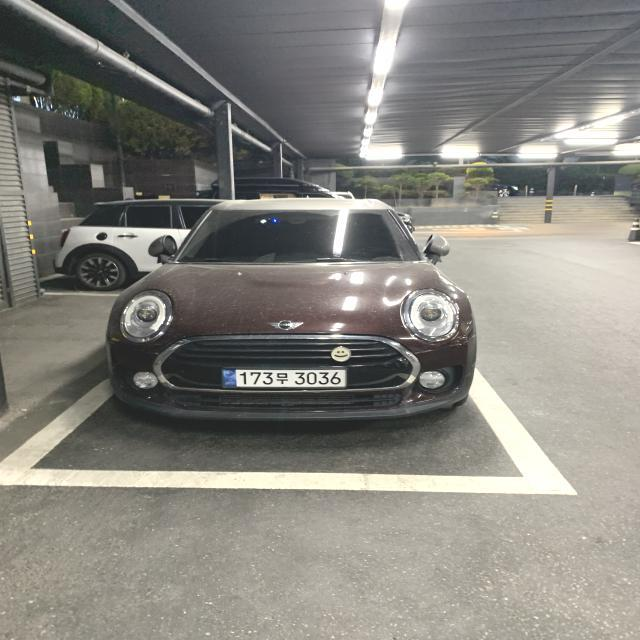occupied: (41, 165, 538, 500)
